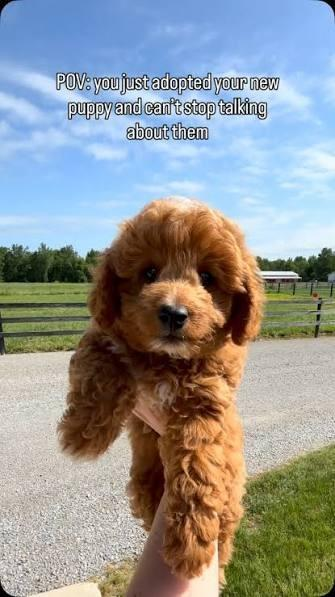puppy-dog: (55, 195, 266, 578)
